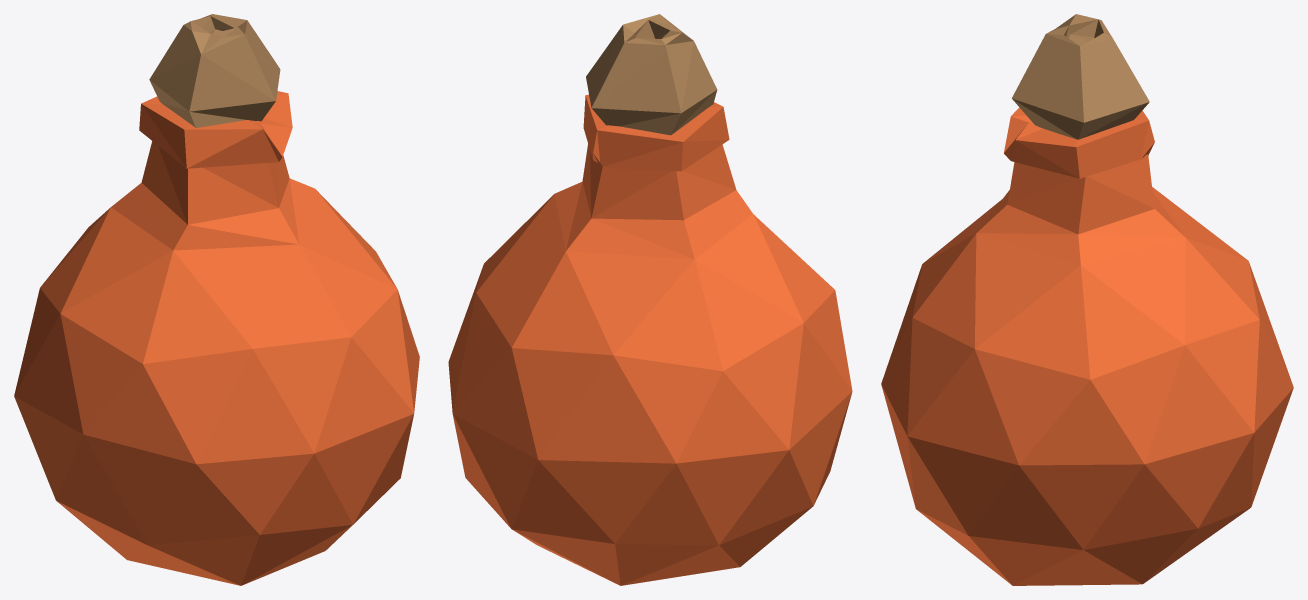
The model's file is AWS_Potion_Orange_015.fbx.
3 views of the same model, side by side, from view 1: azimuth 30°, elevation 25°; view 2: azimuth 150°, elevation 25°; view 3: azimuth 270°, elevation 25° (orthographic).
Visible parts, largest first — view 1: AWS_Potion_Orange_015; view 2: AWS_Potion_Orange_015; view 3: AWS_Potion_Orange_015.
Part boxes in pixels (x1,y1,x2,y2): AWS_Potion_Orange_015: (14, 14, 419, 585); AWS_Potion_Orange_015: (448, 14, 852, 585); AWS_Potion_Orange_015: (881, 14, 1293, 585).
Bounding box in the file's own units: 7.59 × 11.48 × 7.93.
